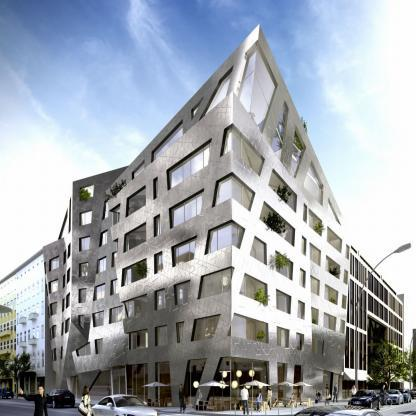Building Outline: (42, 24, 352, 411)
Facade: (42, 24, 259, 411), (169, 142, 211, 189), (171, 190, 204, 228), (193, 315, 220, 341), (174, 237, 197, 267), (126, 223, 147, 252), (124, 260, 147, 286), (125, 295, 147, 319), (128, 188, 146, 216), (128, 329, 148, 350), (176, 281, 191, 305), (157, 326, 168, 346), (157, 289, 166, 310), (111, 306, 122, 323), (78, 342, 90, 357), (81, 211, 92, 226), (95, 284, 105, 300), (94, 311, 104, 327), (113, 205, 120, 226), (81, 236, 90, 252), (157, 253, 164, 273), (98, 256, 106, 273), (178, 322, 184, 343), (51, 257, 59, 271), (112, 279, 119, 295), (156, 216, 161, 236), (81, 263, 88, 277), (51, 280, 58, 293), (101, 231, 107, 246), (97, 339, 103, 354), (80, 289, 86, 303), (104, 201, 108, 219), (52, 303, 57, 315), (156, 179, 159, 198), (80, 316, 84, 329), (67, 319, 70, 333), (116, 240, 118, 256), (54, 325, 56, 338), (68, 296, 70, 307), (69, 271, 70, 282)
Glass Wall: (112, 364, 148, 405), (206, 357, 231, 410), (182, 359, 207, 407), (83, 371, 109, 402), (158, 362, 172, 406), (71, 375, 82, 400)
Window: (169, 142, 211, 189), (237, 47, 257, 115), (171, 190, 204, 228), (205, 71, 232, 115), (207, 222, 243, 254), (153, 123, 183, 161), (200, 268, 234, 299), (215, 175, 242, 207), (227, 314, 255, 344), (193, 315, 220, 341), (174, 237, 197, 267), (126, 223, 147, 252), (124, 260, 147, 286), (125, 295, 147, 319), (223, 128, 241, 157), (128, 188, 146, 216), (240, 274, 255, 307), (128, 329, 148, 350), (176, 281, 191, 305), (157, 326, 168, 346), (157, 289, 166, 310), (111, 306, 122, 323), (78, 342, 90, 357), (81, 211, 92, 226), (95, 284, 105, 300), (94, 311, 104, 327), (134, 163, 144, 178), (113, 205, 120, 226), (81, 236, 90, 252), (157, 253, 164, 273), (98, 256, 106, 273), (178, 322, 184, 343), (115, 184, 125, 196), (51, 257, 59, 271), (112, 279, 119, 295), (156, 216, 161, 236), (81, 263, 88, 277), (51, 280, 58, 293), (101, 231, 107, 246), (97, 339, 103, 354), (80, 289, 86, 303), (250, 245, 255, 261), (104, 201, 108, 219), (52, 303, 57, 315), (156, 179, 159, 198), (80, 316, 84, 329), (193, 106, 198, 116), (67, 319, 70, 333), (116, 240, 118, 256), (54, 325, 56, 338), (68, 296, 70, 307), (69, 271, 70, 282)
